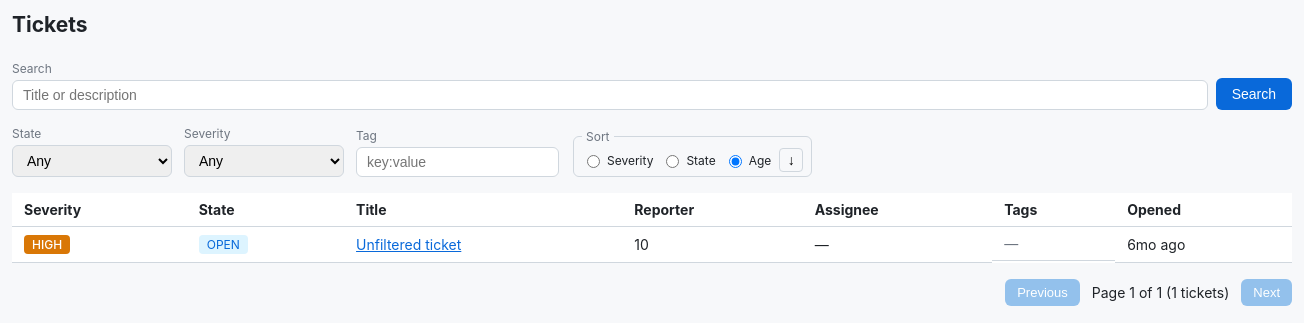
Test: TicketListPage › submits free-text search and updates the URL
Type "latency" into the search field with placeholder "Title or description" at x=610, y=95, box [12, 80, 1208, 110]
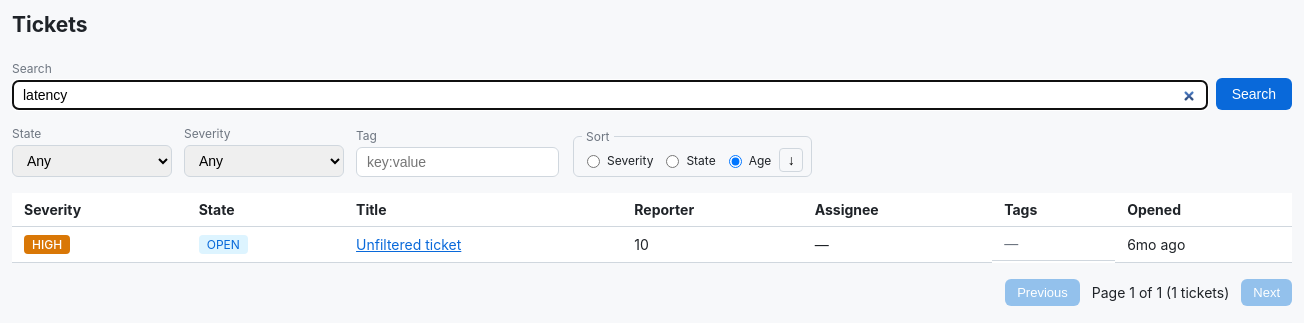
Click the button "Search" at x=1254, y=94, box [1216, 78, 1292, 110]
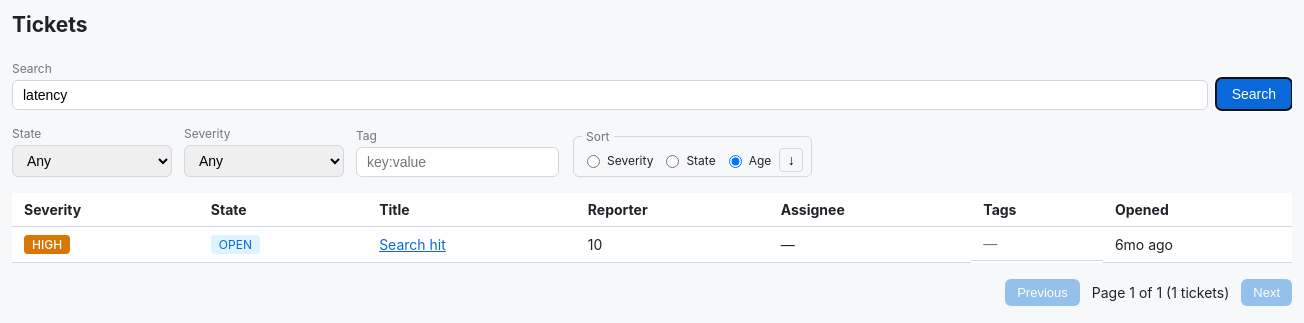
Expected: the link "Search hit" is shown, [379, 236, 446, 253]
